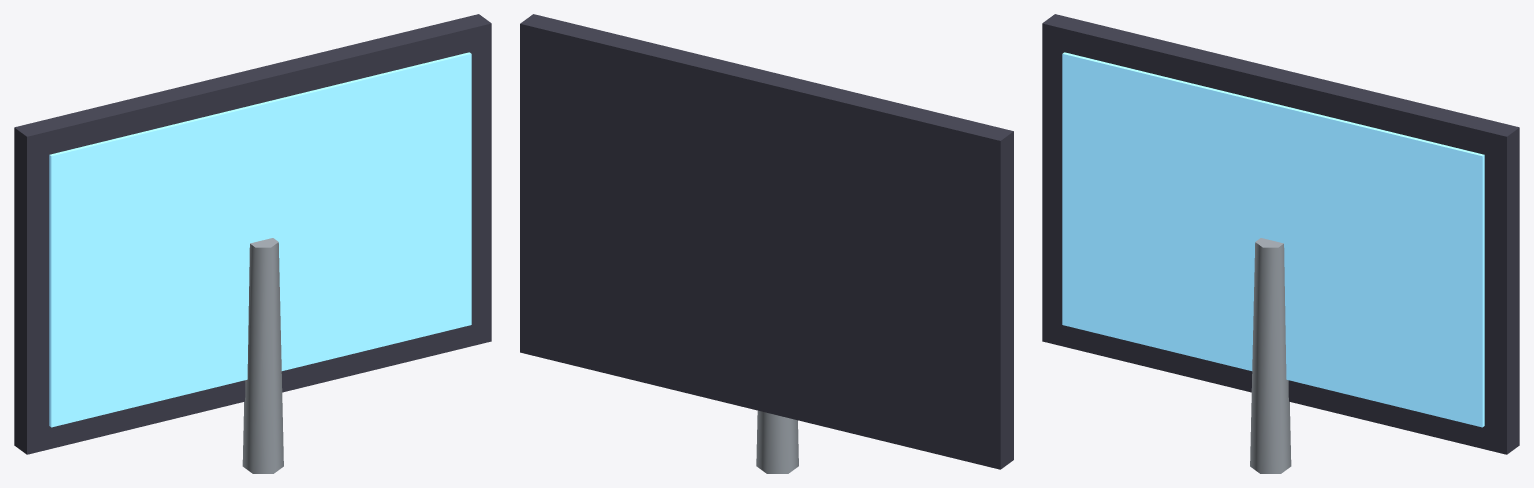
The model's file is monitor.glb.
3 views of the same model, side by side, from view 1: azimuth 30°, elevation 25°; view 2: azimuth 150°, elevation 25°; view 3: azimuth 330°, elevation 25° (orthographic). The views are drawn at different scales.
Visible parts, largest first — view 1: Screen, Bezel, Stand; view 2: Bezel, Stand; view 3: Screen, Bezel, Stand.
Boxes of the visible parts, x1=… form: Screen: x1=49, y1=52, x2=471, y2=427; Bezel: x1=14, y1=14, x2=491, y2=454; Stand: x1=242, y1=238, x2=283, y2=473; Bezel: x1=520, y1=14, x2=1013, y2=469; Stand: x1=756, y1=410, x2=798, y2=473; Screen: x1=1062, y1=52, x2=1484, y2=427; Bezel: x1=1042, y1=14, x2=1519, y2=454; Stand: x1=1250, y1=238, x2=1291, y2=473.
Bounding box in the file's own units: 0.52 × 0.41 × 0.0525.
